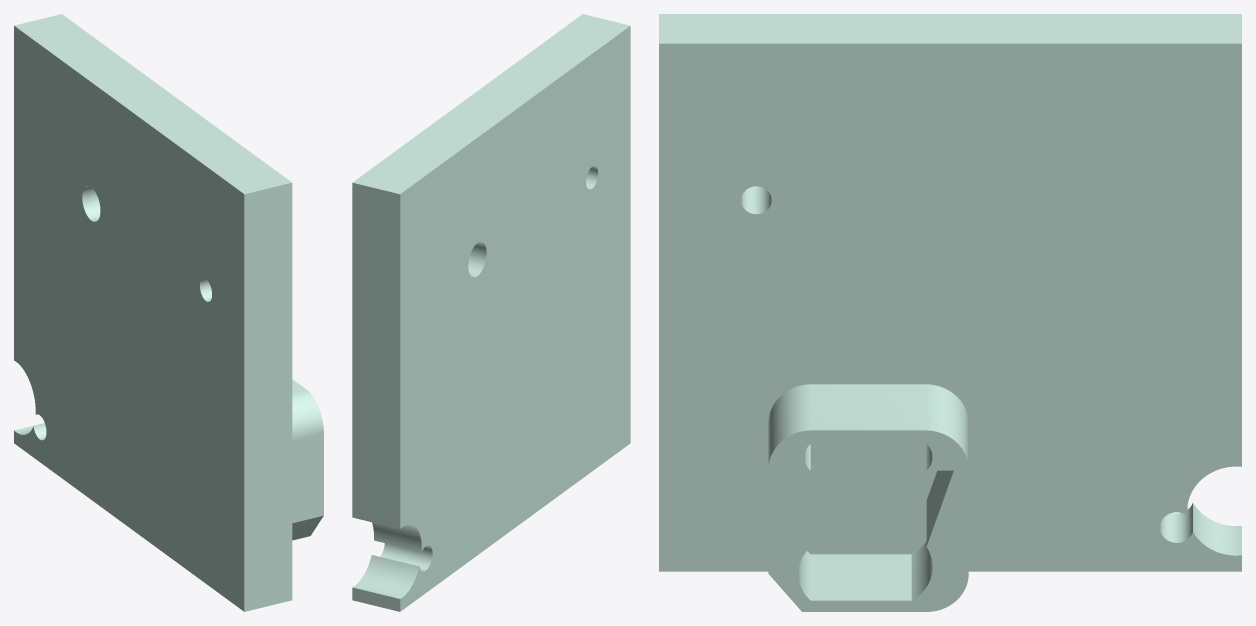
3 renders of one model, left to right at view 1: azimuth 30°, elevation 25°; view 2: azimuth 150°, elevation 25°; view 3: azimuth 270°, elevation 25°, orthographic. The views are drawn at different scales.
Parts seen in each view (by area): view 1: Renderer Node; view 2: Renderer Node; view 3: Renderer Node.
Boxes of the visible parts, x1,y1,x2,y2 form: Renderer Node: (14,14,323,611); Renderer Node: (352,14,630,611); Renderer Node: (659,14,1241,611).
Size of the model in its own units: 0.4609 by 1.5 by 1.5.
